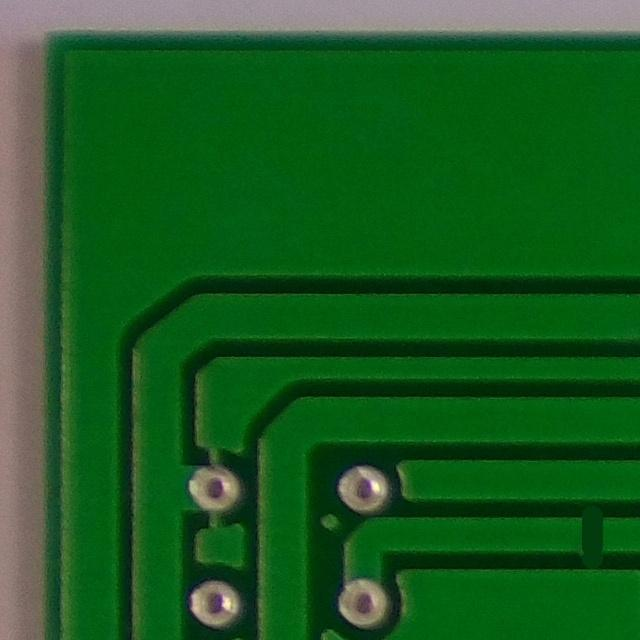open_circuit: (559, 504, 621, 566)
